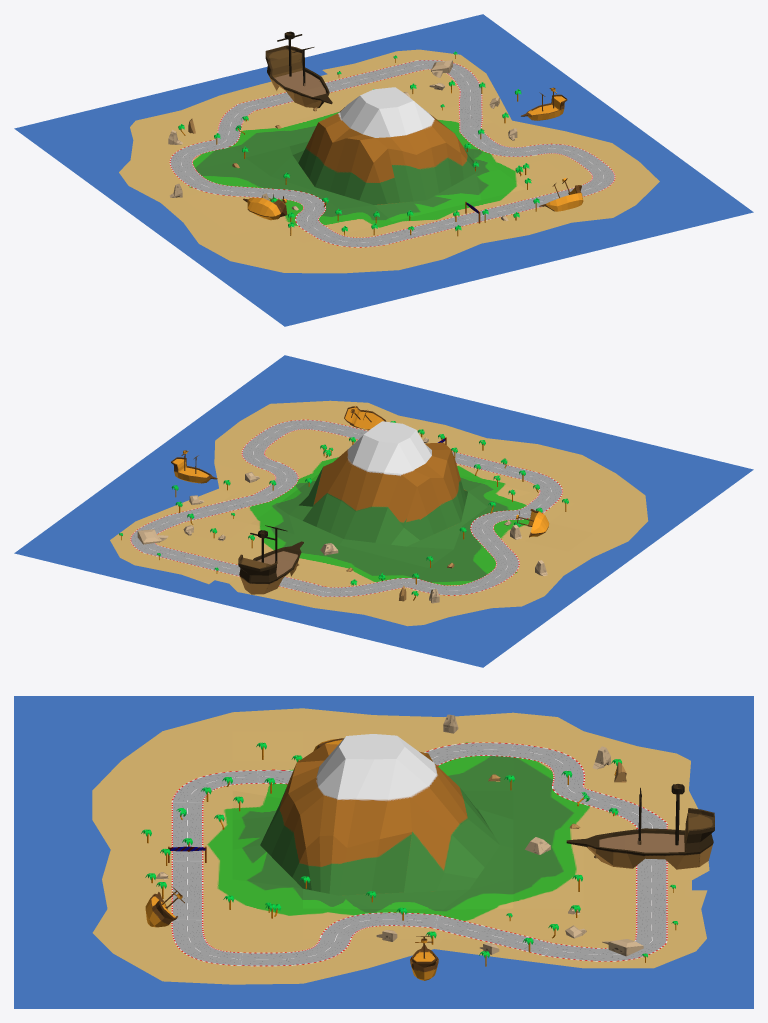
Rendered from palmeras.obj.
The picture shows the model from 3 angles, top to bottom: view 1: azimuth 30°, elevation 25°; view 2: azimuth 150°, elevation 25°; view 3: azimuth 270°, elevation 25°; orthographic projection. The views are drawn at different scales.
Visible parts, largest first — view 1: TERRENO, mar, Carretera, BARCO.003_BARCO.002, BARCO.002_BARCO.003, BARCO.001, BARCO; view 2: TERRENO, mar, Carretera, BARCO.003_BARCO.002, BARCO.001, BARCO; view 3: TERRENO, mar, Carretera, BARCO.003_BARCO.002, BARCO, BARCO.001.
Boxes of the visible parts, <box> form: TERRENO: <box>119,49,659,273</box>; mar: <box>14,14,753,326</box>; Carretera: <box>169,60,615,247</box>; BARCO.003_BARCO.002: <box>265,31,332,108</box>; BARCO.002_BARCO.003: <box>243,193,287,220</box>; BARCO.001: <box>521,87,567,120</box>; BARCO: <box>539,178,583,211</box>; TERRENO: <box>110,400,648,626</box>; mar: <box>14,355,753,667</box>; Carretera: <box>130,419,562,596</box>; BARCO.003_BARCO.002: <box>238,525,303,594</box>; BARCO.001: <box>171,450,217,483</box>; BARCO: <box>344,405,386,430</box>; TERRENO: <box>92,708,709,984</box>; mar: <box>14,696,753,1008</box>; Carretera: <box>171,742,667,966</box>; BARCO.003_BARCO.002: <box>566,784,714,869</box>; BARCO: <box>145,886,184,927</box>; BARCO.001: <box>410,936,438,980</box>.
Bounding box in the file's own units: 970 × 174 × 970.
Materials: 26 (26 with a texture image).
